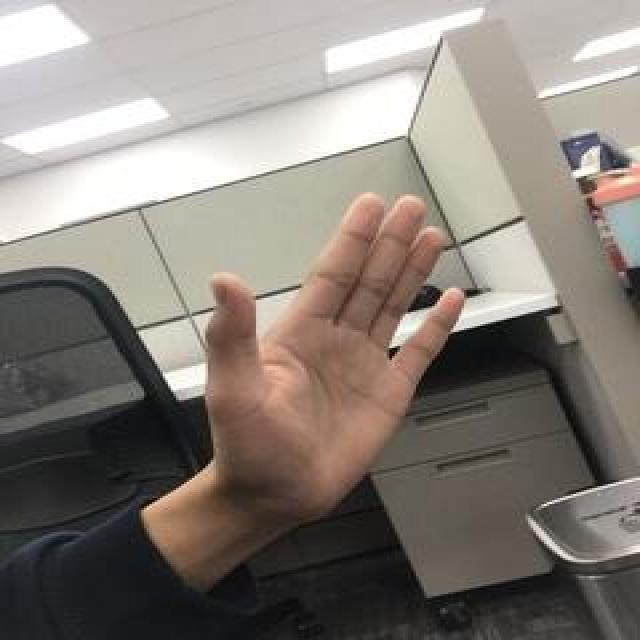no-gloves: (200, 188, 472, 516)
